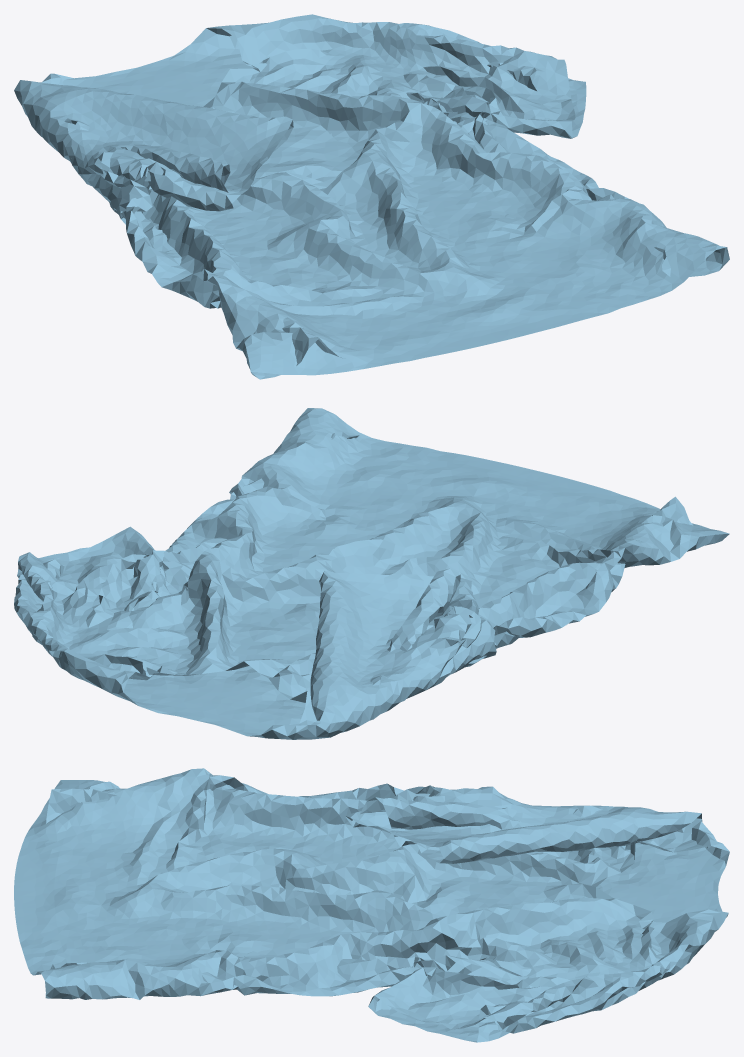
File: frame_20.glb
The picture shows the model from 3 angles, top to bottom: view 1: azimuth 30°, elevation 25°; view 2: azimuth 150°, elevation 25°; view 3: azimuth 270°, elevation 25°; orthographic projection. The views are drawn at different scales.
Visible parts, largest first — view 1: frame_20.obj; view 2: frame_20.obj; view 3: frame_20.obj.
Part boxes in pixels (x1,y1,x2,y2): frame_20.obj: (14, 14, 729, 379); frame_20.obj: (14, 408, 729, 739); frame_20.obj: (14, 768, 729, 1042).
Bounding box in the file's own units: 1.47 × 0.1608 × 1.73.
